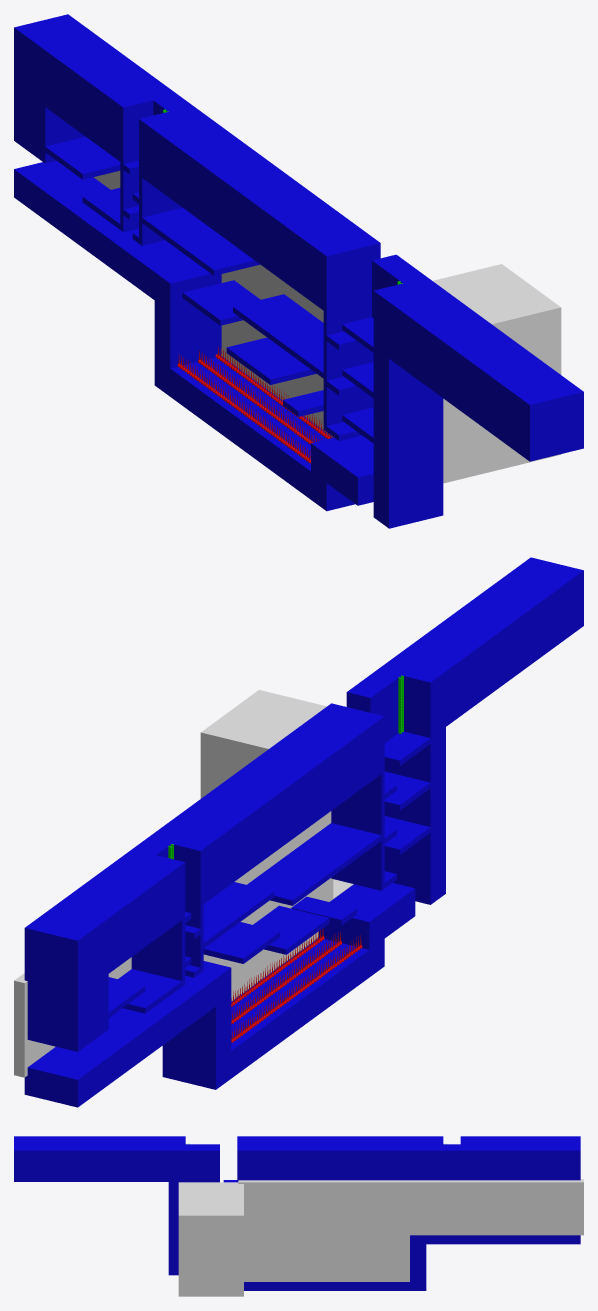
File: Level_3_scene10_colored_bg.fbx
The picture shows the model from 3 angles, top to bottom: view 1: azimuth 30°, elevation 25°; view 2: azimuth 150°, elevation 25°; view 3: azimuth 270°, elevation 25°; orthographic projection. The views are drawn at different scales.
Visible parts, largest first — view 1: area1.001, Cube.170, Cube.041, Cube.171, Cube.169, Cube.044, Cube.045, Cube.042, Cube.053, Cube.040, Cube.038, Cone.002 (+6 smaller); view 2: area1.001, Cube.169, Cube.044, Cube.171, Cube.041, Cube.045, Cube.039, Cube.001, Cube.170, Cube.042, Cube.040, Cube.046 (+6 smaller); view 3: area1.001, Cube.169, Cube.170, Cube.171, Cube.001, Cube.005.
Part boxes in pixels (x1,y1,x2,y2): area1.001: [14, 14, 583, 528]; Cube.170: [443, 313, 561, 483]; Cube.041: [323, 302, 373, 440]; Cube.171: [433, 264, 561, 328]; Cube.169: [94, 171, 332, 436]; Cube.044: [233, 294, 323, 378]; Cube.045: [142, 207, 259, 275]; Cube.042: [226, 337, 316, 384]; Cube.053: [45, 137, 120, 179]; Cube.040: [182, 280, 260, 325]; Cube.038: [132, 176, 182, 245]; Cone.002: [177, 354, 310, 463]; area1.001: [24, 557, 583, 1107]; Cube.169: [14, 811, 333, 1077]; Cube.044: [247, 823, 381, 905]; Cube.171: [200, 690, 326, 751]; Cube.041: [331, 772, 396, 890]; Cube.045: [203, 882, 274, 948]; Cube.039: [131, 912, 191, 986]; Cube.001: [346, 669, 400, 742]; Cube.170: [200, 735, 265, 798]; Cube.042: [253, 905, 329, 954]; Cube.040: [203, 922, 280, 963]; Cube.046: [118, 969, 181, 1013]; area1.001: [14, 1136, 580, 1290]; Cube.169: [238, 1179, 583, 1281]; Cube.170: [178, 1217, 243, 1296]; Cube.171: [178, 1182, 243, 1218]; Cube.001: [185, 1144, 219, 1181]; Cube.005: [443, 1144, 460, 1180].
Size of the model in its own units: 3348 by 4500 by 16594.
